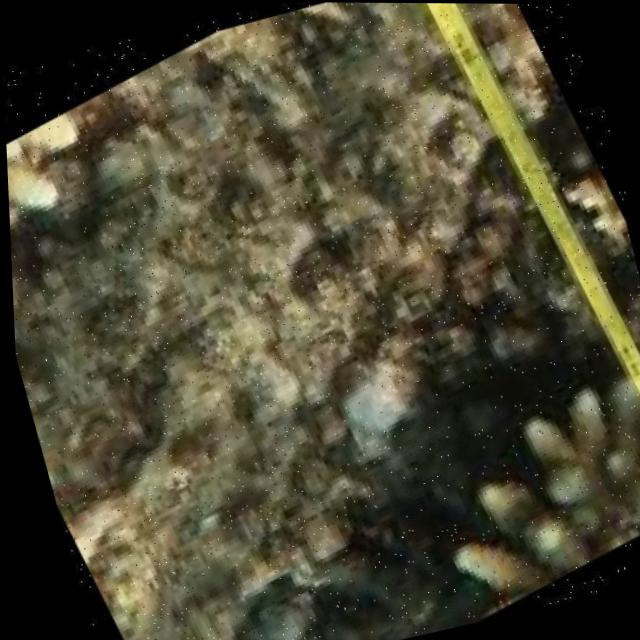Dead Coral: (0, 0, 552, 521)
Healthy Coral: (394, 369, 640, 611)
